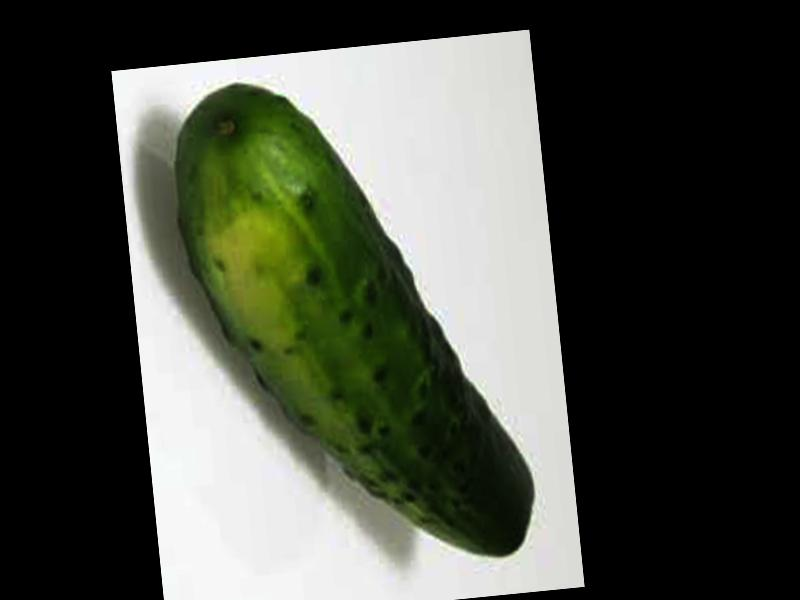Cucumber: (169, 62, 539, 585)
